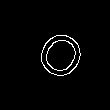O_SW: (24, 22, 86, 88)
